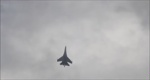maybay_muctieu: (57, 45, 74, 69)
